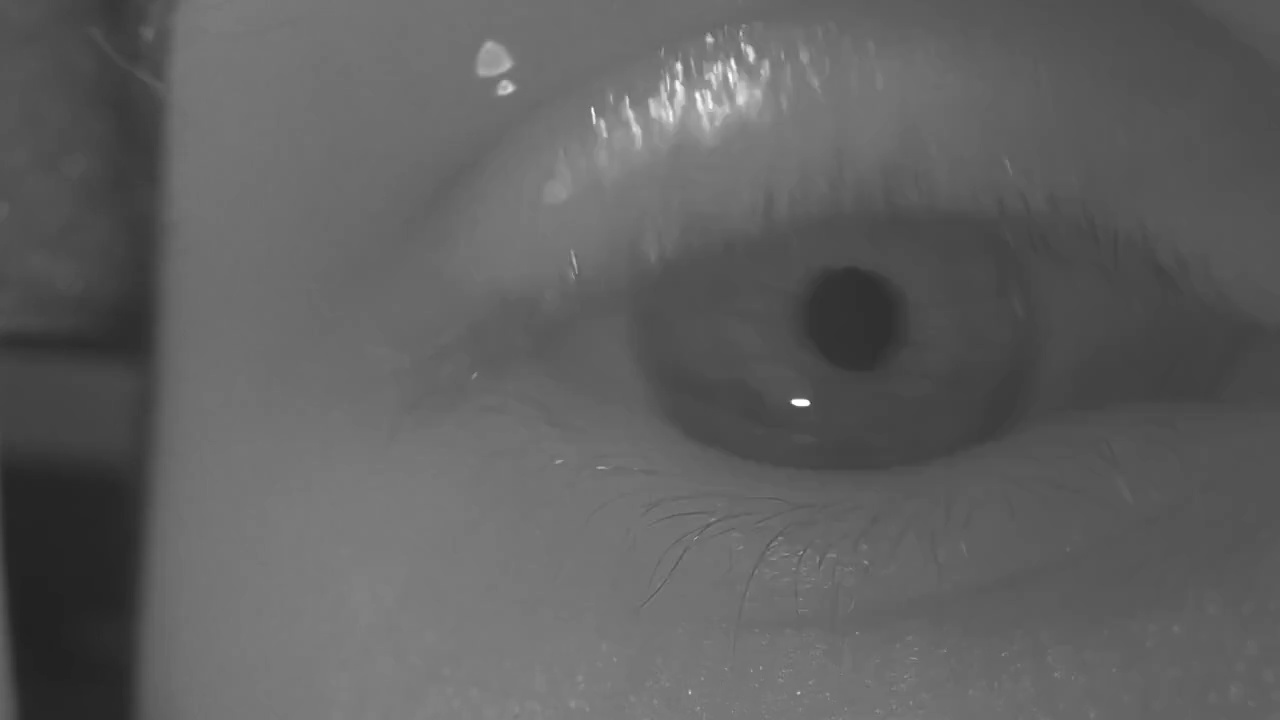pupil: (804, 269, 905, 372)
